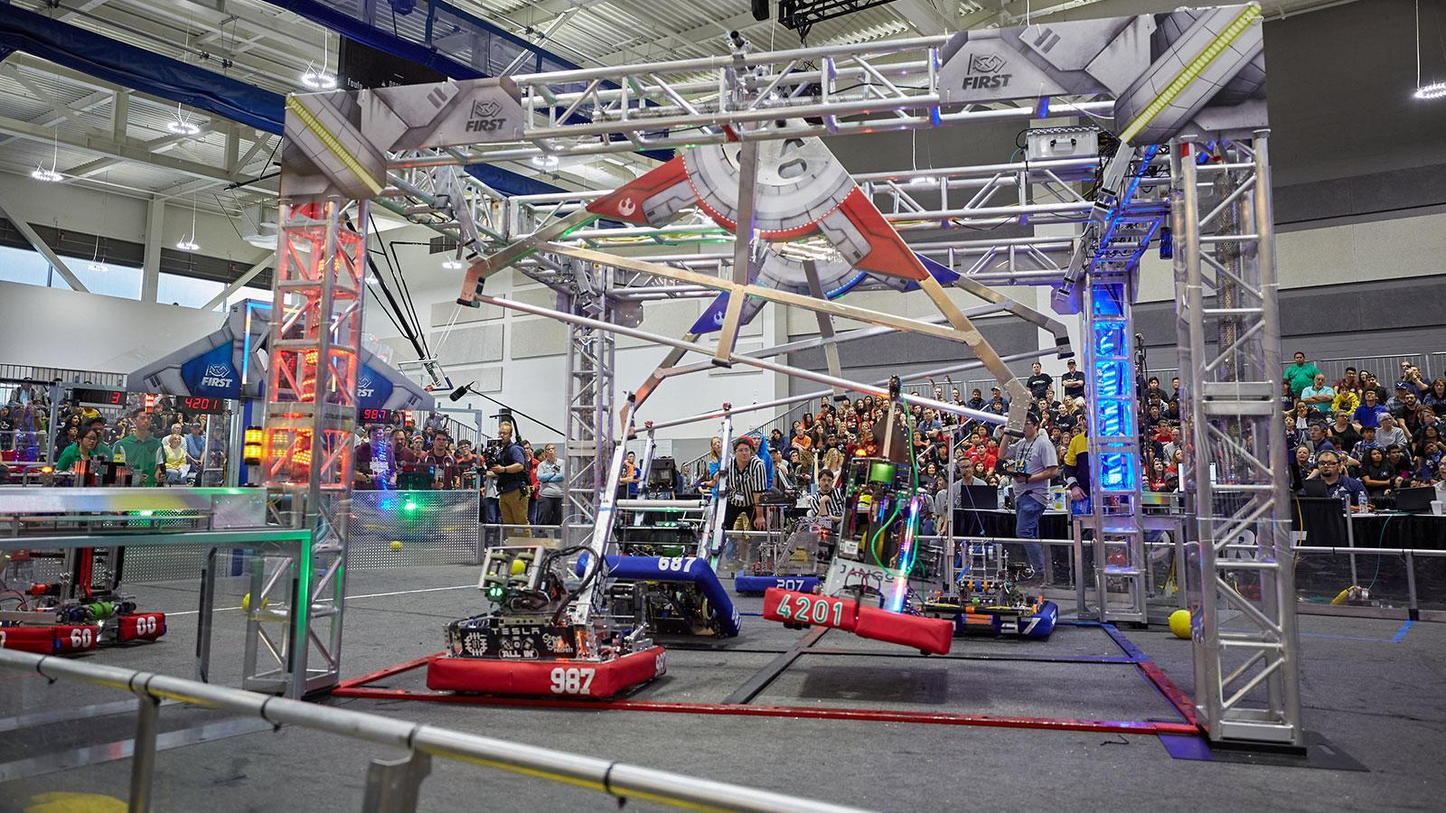robot: (425, 386, 680, 713), (763, 385, 960, 662), (573, 401, 751, 652), (0, 452, 169, 670), (915, 526, 1082, 650), (739, 506, 834, 609)
